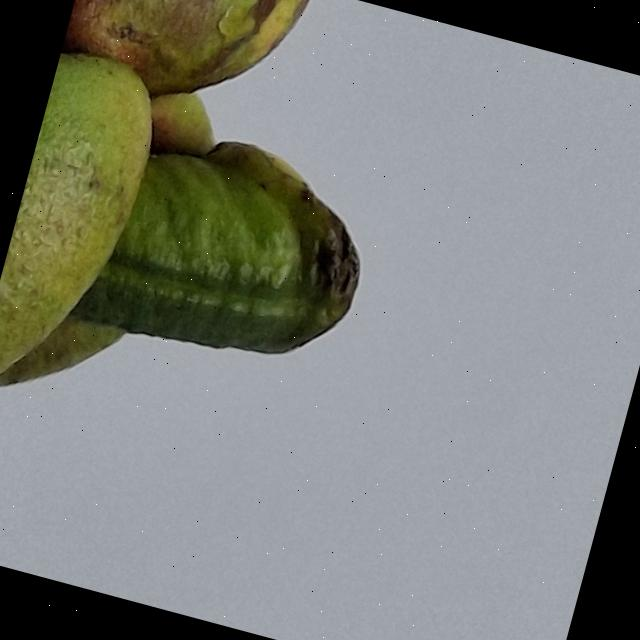mangosteen: (0, 0, 485, 640)
